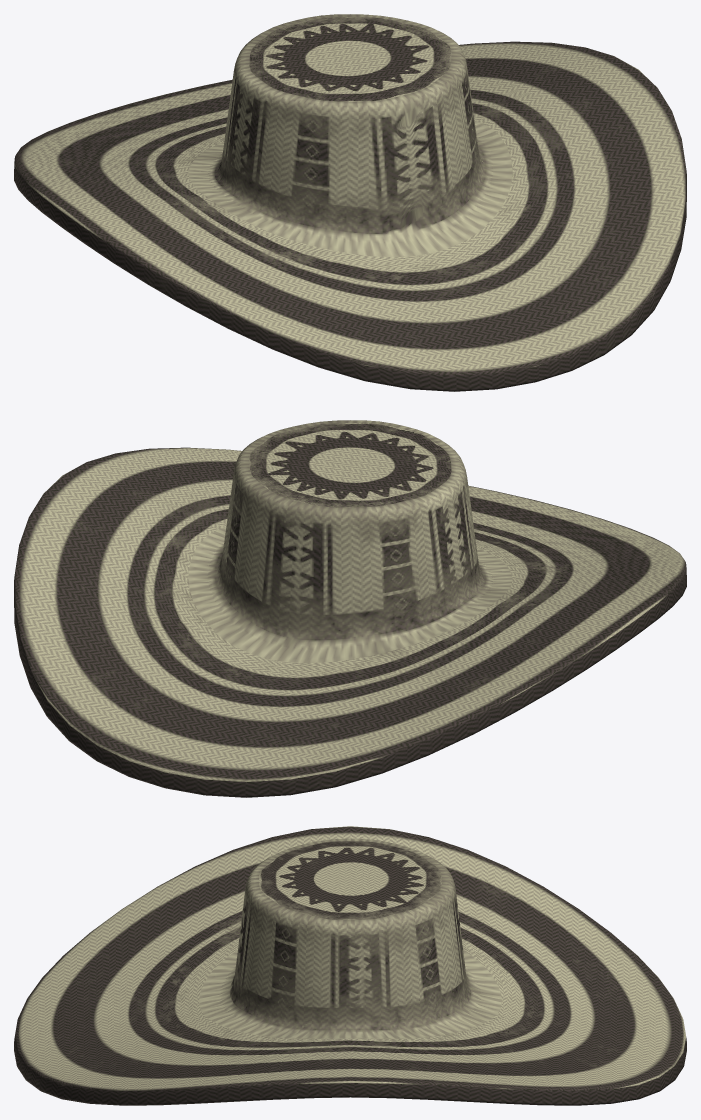
File: Sombrero_Volteado_Textured.fbx
3 views of the same model, one above another, from view 1: azimuth 30°, elevation 25°; view 2: azimuth 150°, elevation 25°; view 3: azimuth 270°, elevation 25° (orthographic). The views are drawn at different scales.
Visible parts, largest first — view 1: sv_01; view 2: sv_01; view 3: sv_01.
Part boxes in pixels (left/top/right/bottom): sv_01: left=14, top=14, right=686, bottom=391; sv_01: left=14, top=420, right=686, bottom=797; sv_01: left=14, top=826, right=686, bottom=1105.
Bounding box in the file's own units: 1.55 × 0.4829 × 1.72.
Materials: 1 (1 with a texture image).
